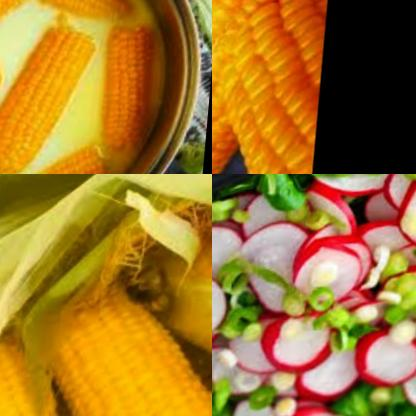corn: (41, 228, 212, 416), (212, 0, 341, 174), (221, 0, 331, 174), (0, 270, 105, 416), (0, 23, 99, 174), (150, 197, 212, 416), (97, 18, 165, 163), (8, 140, 117, 174), (31, 0, 144, 21)
rediska: (240, 188, 371, 328), (263, 305, 416, 415), (212, 333, 282, 395), (376, 174, 416, 268), (212, 213, 251, 289), (212, 274, 235, 361), (233, 398, 334, 416)
